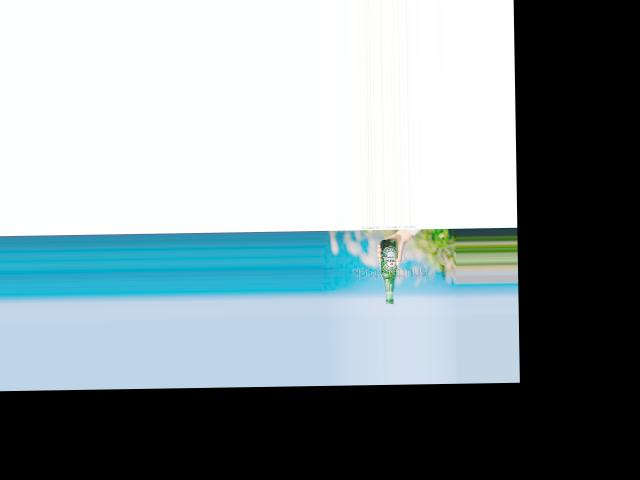beer: (380, 239, 398, 303)
